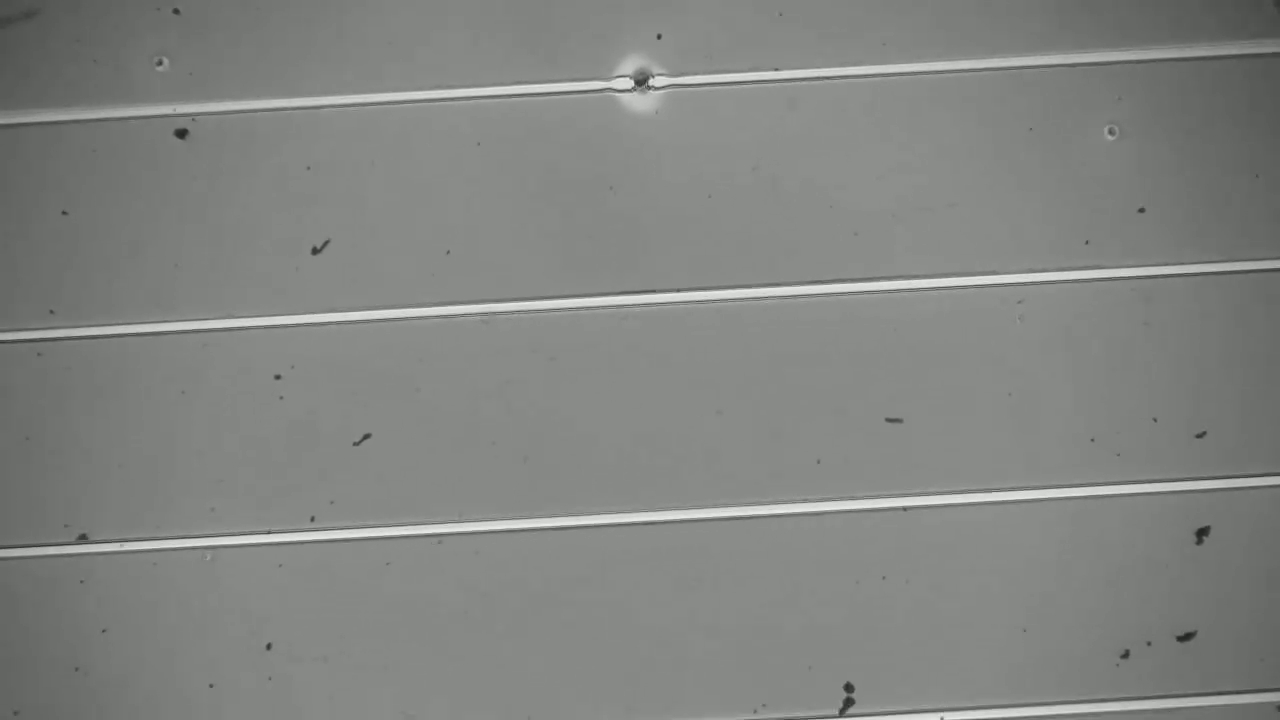stains_enbedded: (622, 64, 667, 103)
